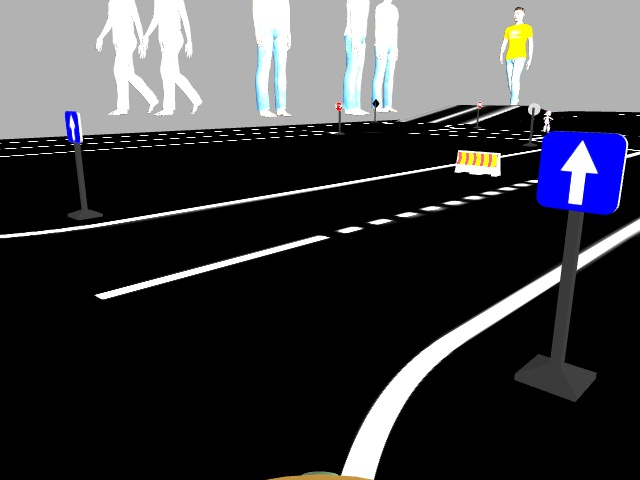ClosedRoadStand: (457, 149, 501, 174), (64, 112, 82, 143)
OneWay: (543, 132, 619, 211)
